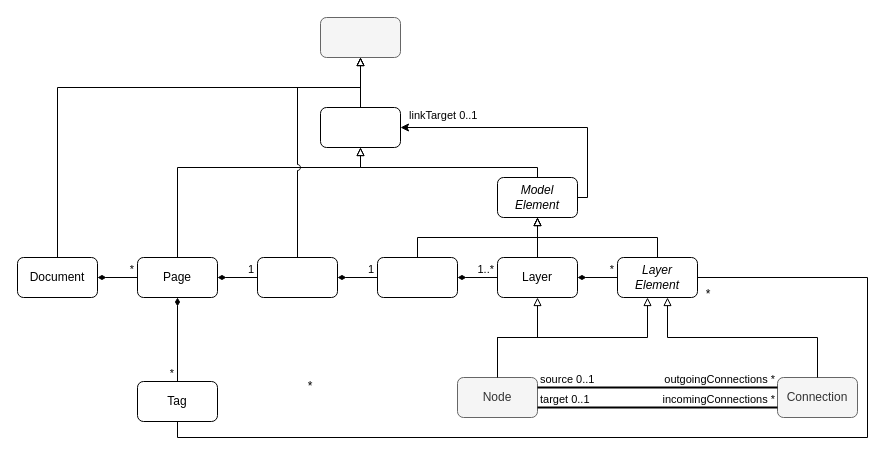
Image size: 886x456. Some labels were removed from this diagram. The centre of each missing label's shape, as x and y in pixels:
"Element" belongs at (x=360, y=37).
"Link Target" belongs at (x=360, y=127).
"Model" belongs at (x=297, y=277).
"Root" belongs at (x=417, y=277).
